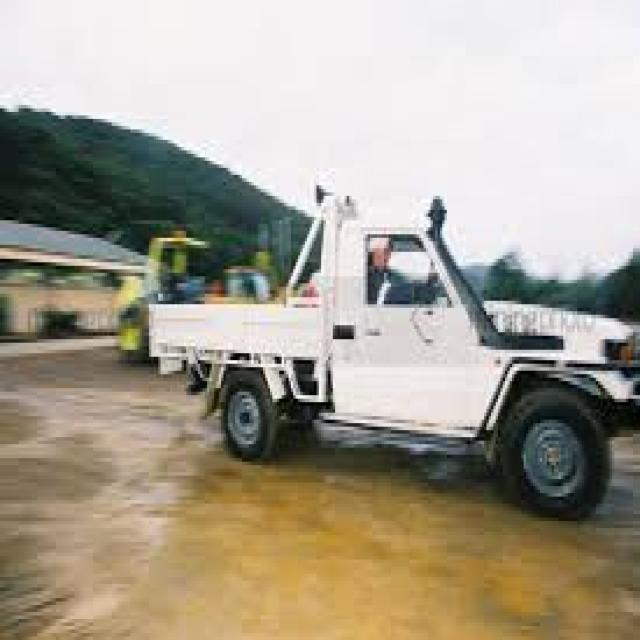light_vehicle: (125, 143, 638, 612)
